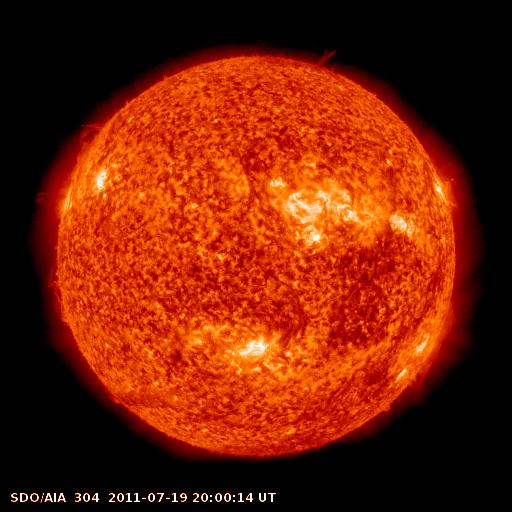prominence: (402, 305, 461, 396), (44, 256, 81, 330), (69, 114, 106, 157), (29, 183, 72, 220), (309, 42, 346, 79)
